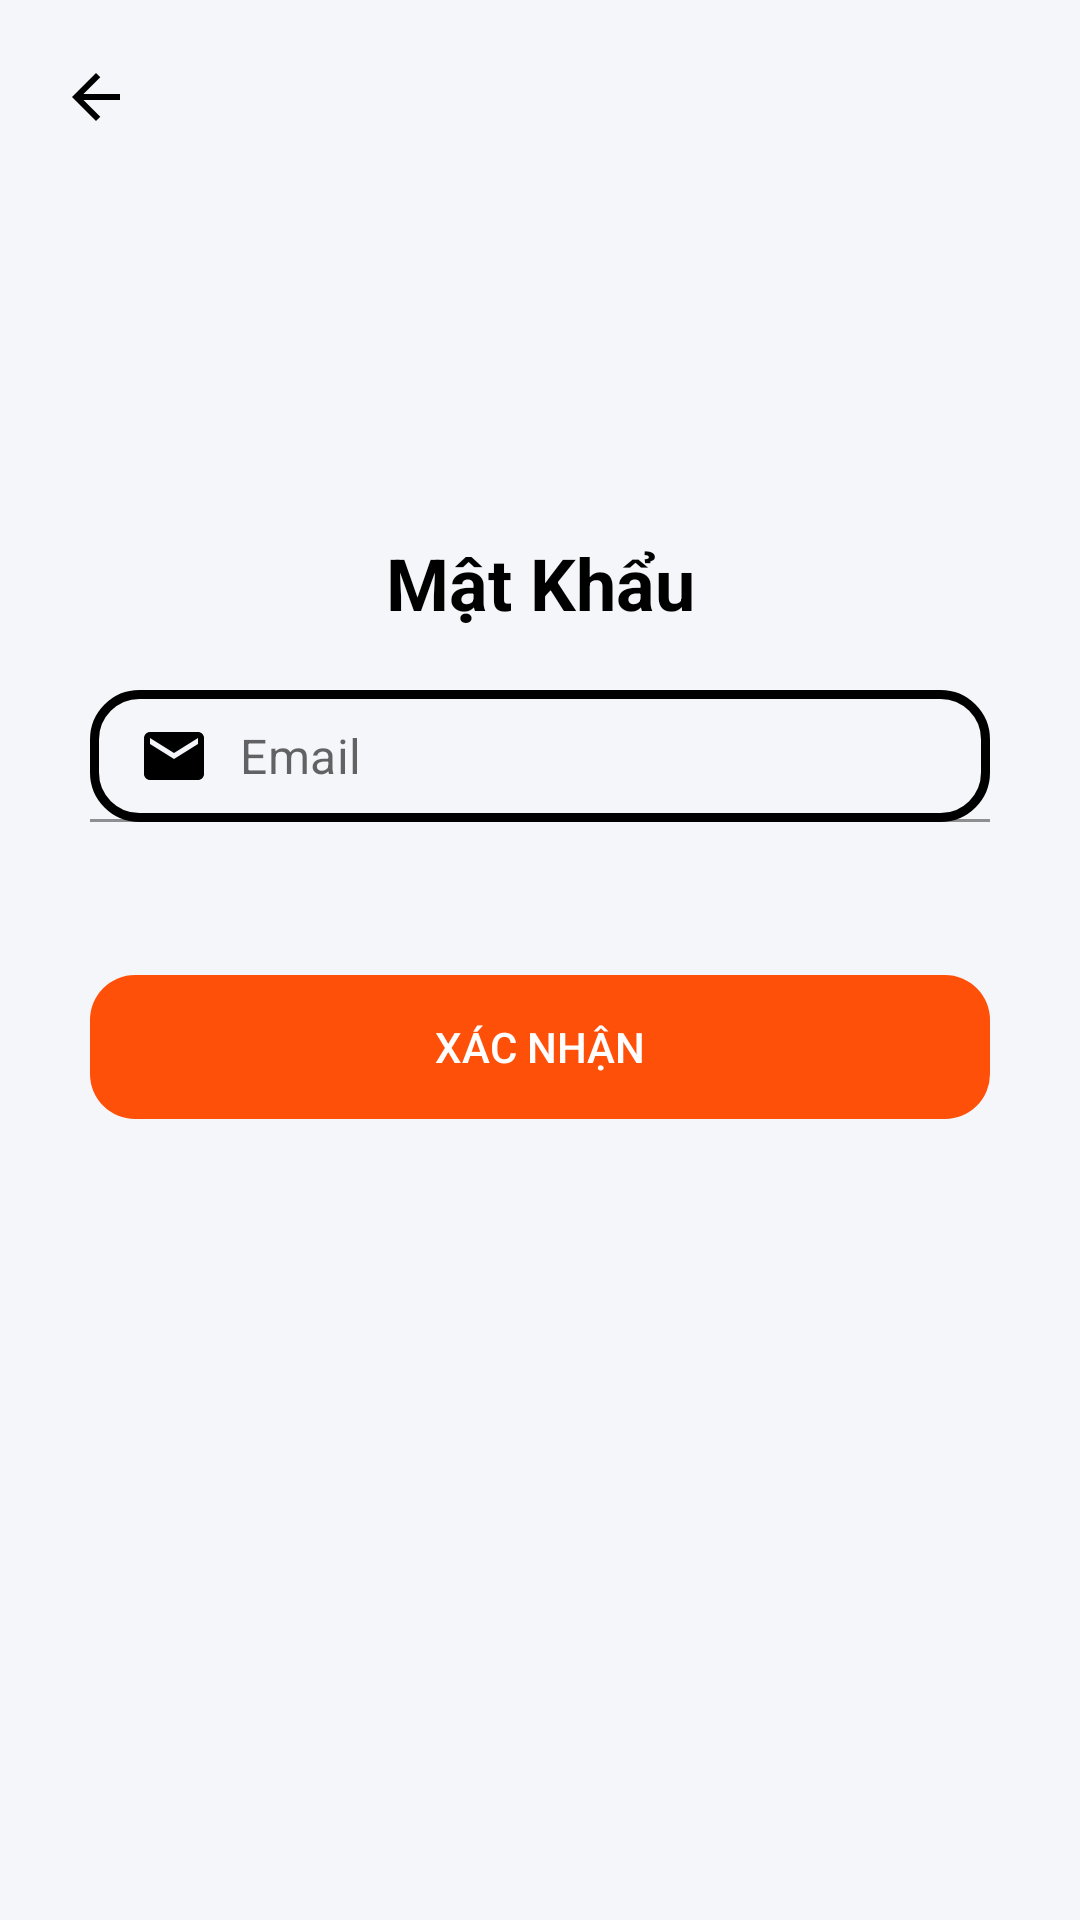

Where to tap for icons on this 1080w x 1920h app screen, as (x=x, y=y):
back: (x=96, y=97)
